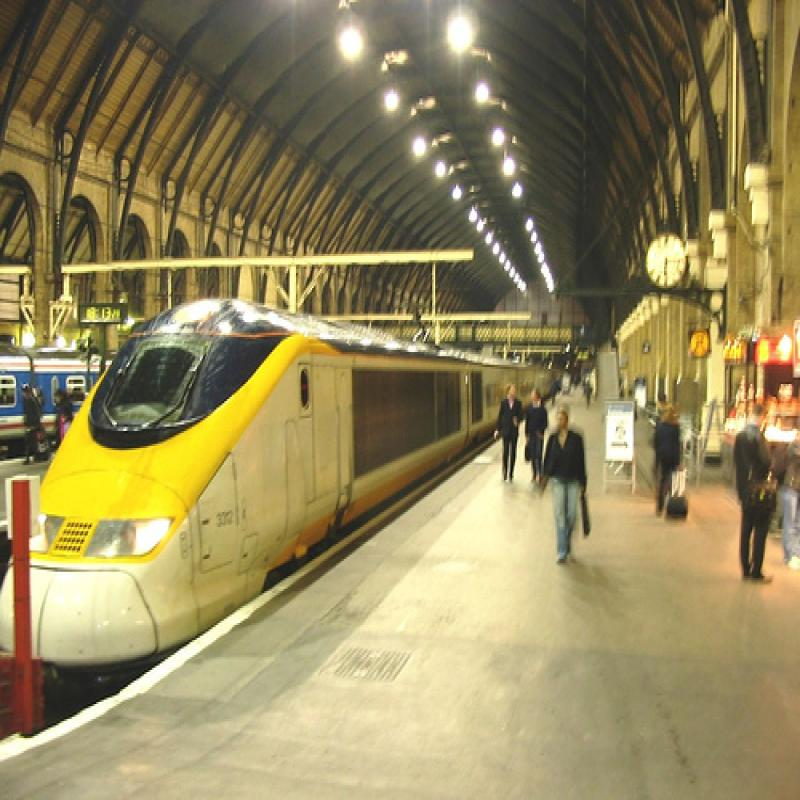train: (1, 298, 558, 669), (1, 351, 107, 442)
